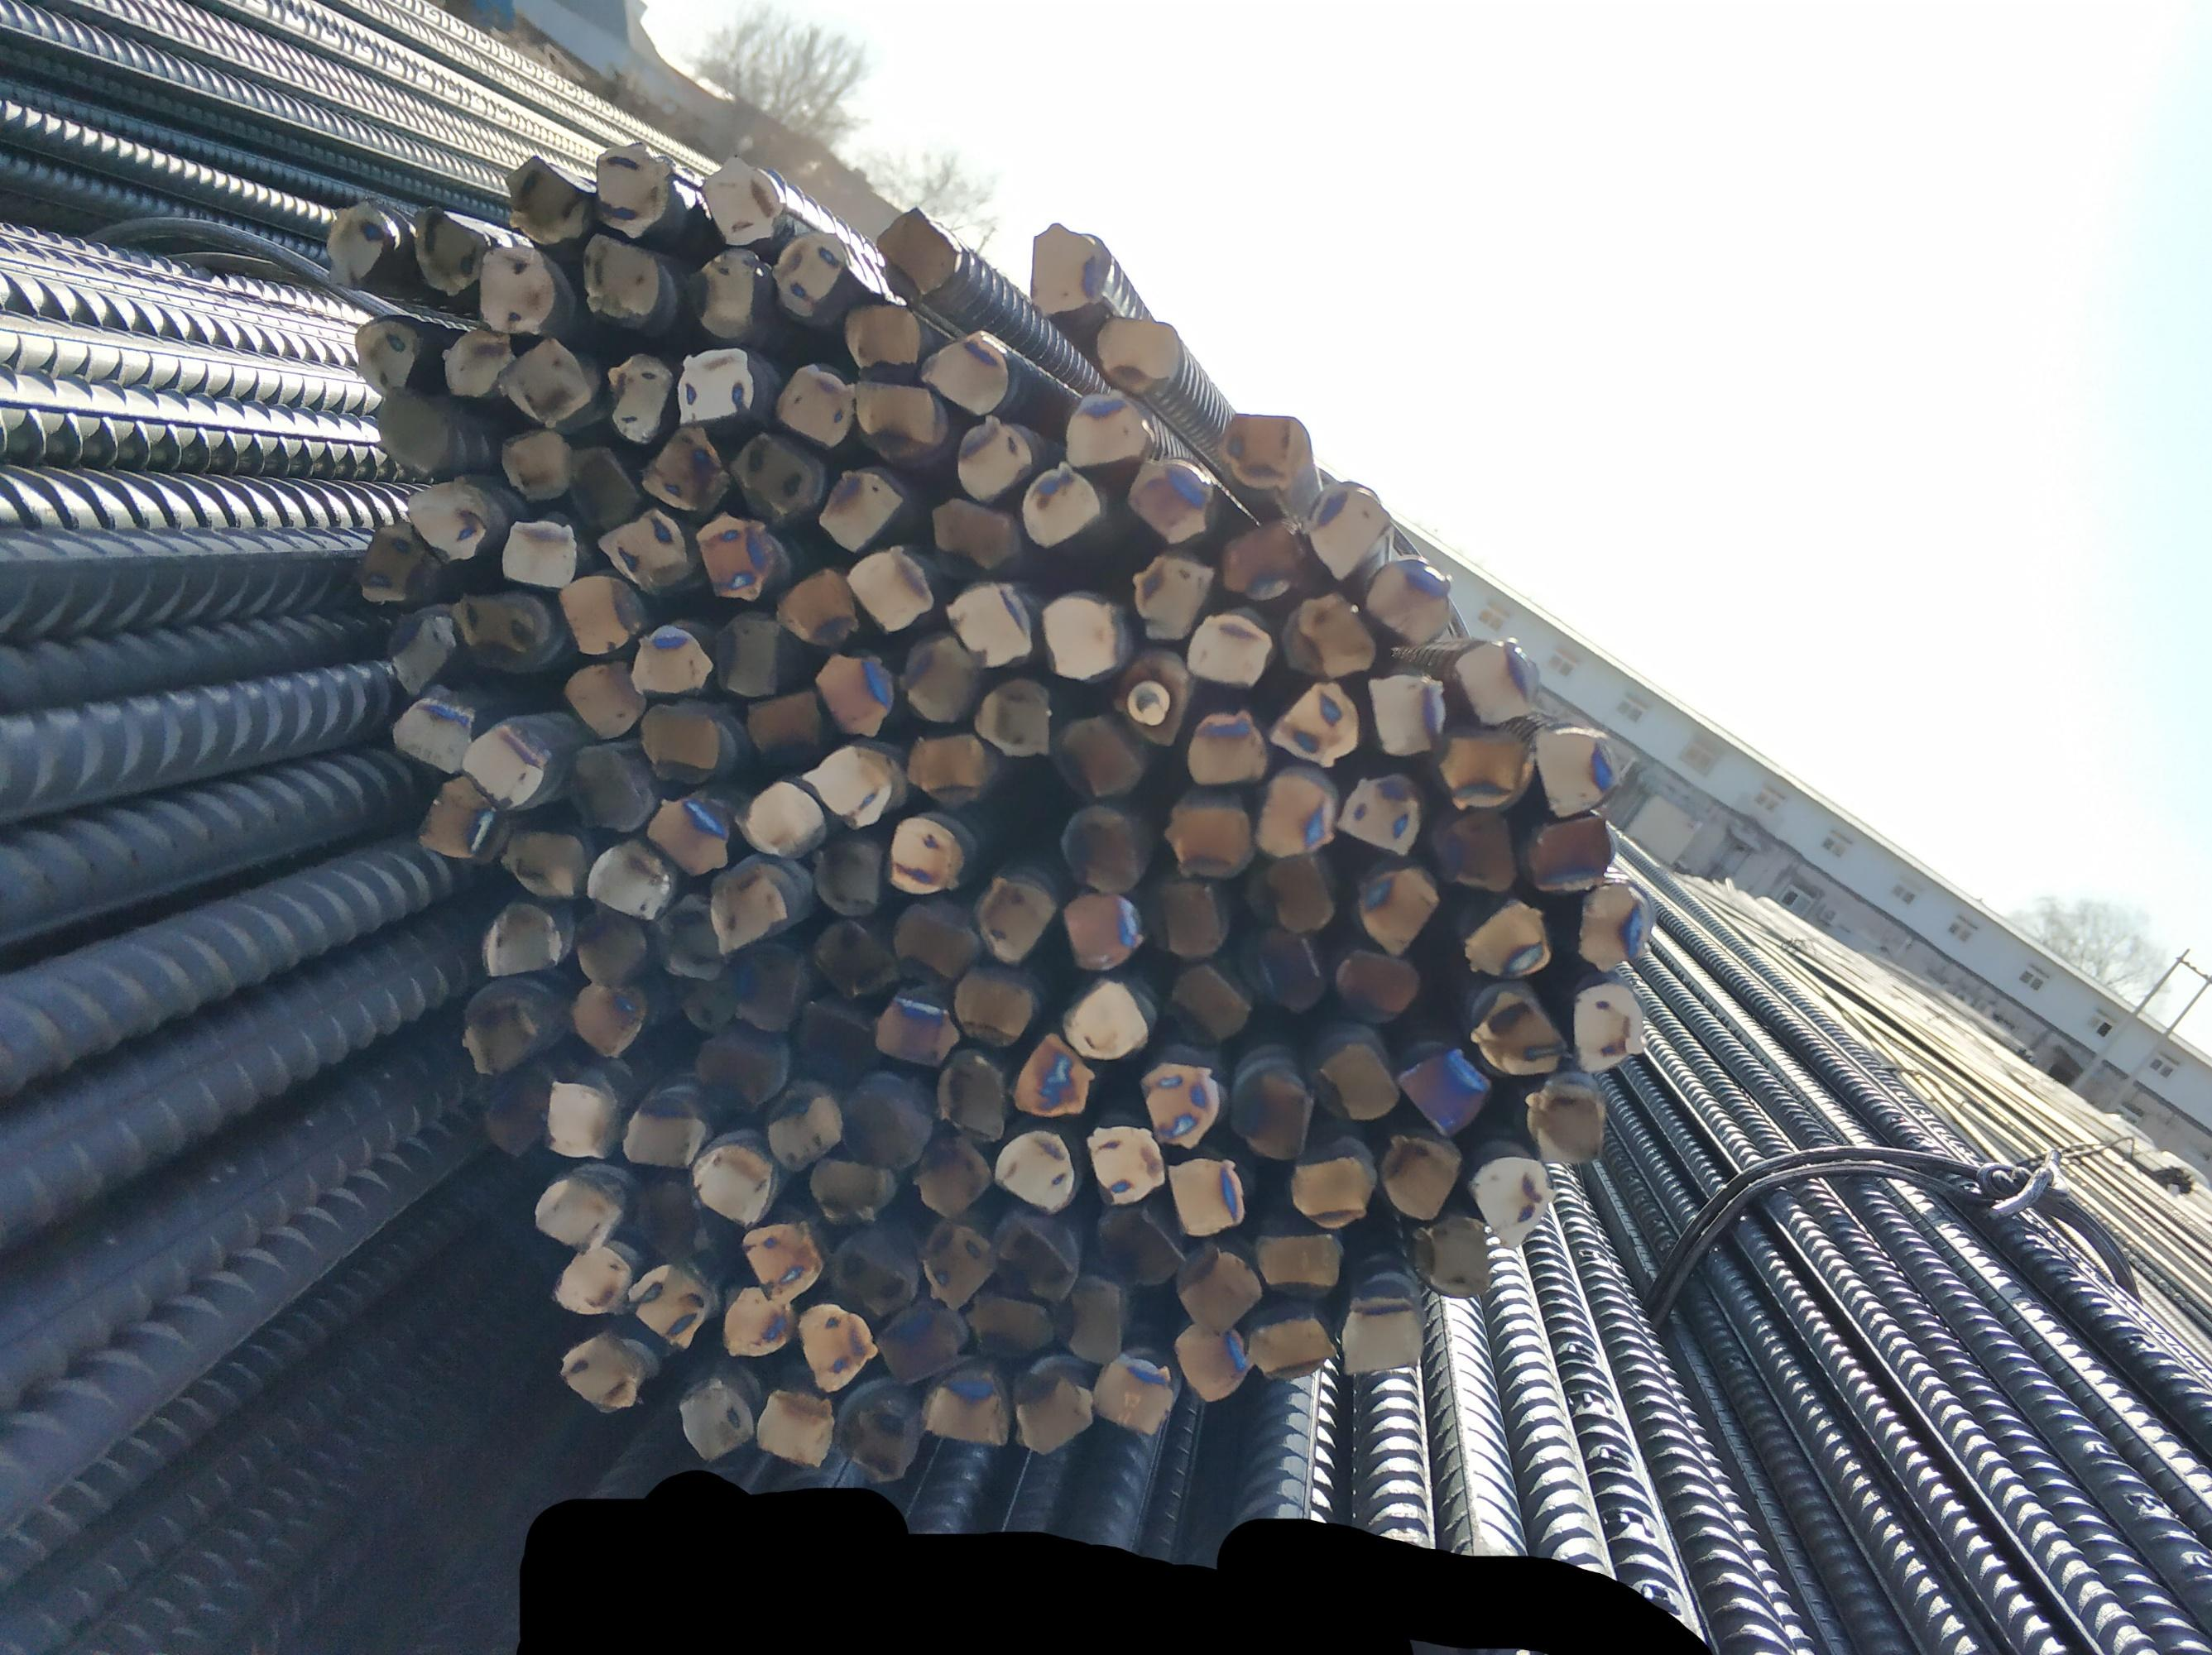bar: (1109, 640, 1194, 749), (838, 1076, 935, 1172), (1364, 549, 1460, 647), (1394, 1045, 1489, 1140), (499, 330, 593, 428), (693, 1026, 791, 1120), (478, 1053, 565, 1158), (827, 1220, 921, 1316), (1468, 1151, 1555, 1253), (1352, 861, 1446, 954), (1470, 986, 1566, 1078), (1531, 725, 1623, 821), (801, 737, 898, 827), (1023, 217, 1112, 316), (1305, 475, 1392, 575), (1432, 725, 1534, 810), (872, 200, 956, 304), (730, 429, 822, 523), (1050, 709, 1142, 803), (697, 150, 784, 249), (1232, 1059, 1315, 1161), (563, 741, 655, 833), (596, 502, 690, 593), (460, 716, 551, 810), (1126, 546, 1216, 640), (1268, 678, 1362, 768), (990, 1213, 1081, 1307), (1279, 588, 1374, 676), (589, 139, 672, 240), (846, 541, 937, 633), (944, 577, 1034, 669), (917, 327, 1010, 417), (1451, 633, 1541, 725), (497, 153, 591, 242), (575, 231, 662, 327), (1215, 407, 1314, 490), (919, 1361, 1010, 1452), (620, 1262, 712, 1351), (811, 647, 898, 741), (407, 469, 492, 565), (1010, 1361, 1095, 1457), (874, 1300, 971, 1384), (1241, 850, 1338, 934), (584, 834, 672, 925), (1241, 923, 1329, 1014), (1173, 1241, 1262, 1332), (1428, 803, 1519, 892), (645, 788, 732, 880), (1519, 1076, 1606, 1168), (1136, 1055, 1222, 1149), (794, 1300, 878, 1396), (556, 570, 645, 659), (853, 374, 942, 462), (1142, 871, 1230, 960), (471, 245, 558, 336), (891, 895, 982, 982), (1126, 455, 1211, 548), (1305, 1038, 1397, 1123), (900, 631, 980, 728), (1573, 878, 1652, 975), (643, 424, 730, 513), (1162, 963, 1251, 1050), (1095, 1201, 1183, 1288), (815, 466, 900, 556), (1255, 770, 1340, 861), (992, 1125, 1077, 1215), (1338, 1295, 1428, 1380), (530, 1172, 622, 1255), (1378, 1130, 1461, 1222), (1524, 814, 1618, 895), (770, 228, 850, 323), (1041, 588, 1121, 683), (810, 911, 897, 998), (1222, 516, 1308, 603), (1187, 602, 1274, 688), (349, 518, 438, 603), (558, 1328, 646, 1413), (419, 772, 502, 862), (407, 202, 488, 294), (975, 873, 1056, 965), (917, 1213, 996, 1309), (558, 655, 645, 741), (389, 690, 474, 777), (737, 1217, 824, 1302), (1463, 895, 1550, 980), (639, 699, 723, 788), (794, 996, 878, 1085), (1364, 669, 1447, 758), (1164, 796, 1253, 880), (1011, 1033, 1095, 1121), (1333, 942, 1421, 1026), (1020, 459, 1102, 549), (1409, 1210, 1491, 1300), (733, 775, 825, 855), (1244, 1304, 1336, 1384), (372, 384, 450, 478), (686, 243, 761, 341), (1569, 979, 1644, 1076), (775, 563, 860, 648), (629, 619, 716, 702), (773, 360, 853, 450), (1060, 803, 1140, 894), (765, 1083, 843, 1175), (926, 490, 1018, 568), (1058, 979, 1150, 1057), (692, 1139, 775, 1224), (1166, 1154, 1249, 1240), (707, 867, 789, 954), (1093, 309, 1180, 391), (448, 591, 537, 671), (1063, 393, 1152, 473), (1086, 1118, 1166, 1206), (629, 1173, 707, 1264), (565, 442, 641, 534), (697, 508, 773, 600), (836, 1391, 912, 1483), (1051, 1269, 1126, 1363), (1091, 1349, 1173, 1434), (954, 414, 1032, 502), (709, 607, 784, 699), (732, 939, 805, 1033), (935, 1048, 1008, 1142), (674, 342, 756, 426), (904, 727, 987, 808), (1340, 772, 1423, 854), (603, 348, 674, 443), (874, 989, 959, 1069), (745, 687, 825, 772), (1169, 1316, 1249, 1401), (1253, 1227, 1343, 1302), (568, 977, 648, 1060), (950, 967, 1034, 1047), (478, 901, 563, 979), (460, 993, 539, 1078), (678, 1377, 756, 1462), (754, 1384, 832, 1469), (884, 812, 963, 897), (1289, 1151, 1374, 1229), (964, 1288, 1055, 1361), (659, 890, 730, 982), (970, 675, 1051, 754), (1187, 702, 1268, 782), (843, 297, 921, 381), (539, 1080, 617, 1163), (620, 1095, 707, 1170), (719, 1279, 796, 1363), (914, 1130, 990, 1213), (502, 827, 589, 901), (387, 608, 457, 699), (1062, 894, 1143, 970), (499, 421, 573, 504), (495, 515, 580, 588), (806, 1156, 895, 1226), (570, 909, 648, 987), (441, 322, 518, 402), (810, 833, 884, 914), (549, 1241, 632, 1314), (323, 196, 389, 287), (349, 313, 421, 396), (669, 963, 740, 1040)
